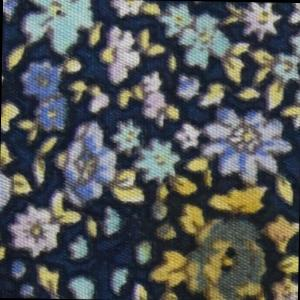Oil Stain: (140, 156, 300, 300)
